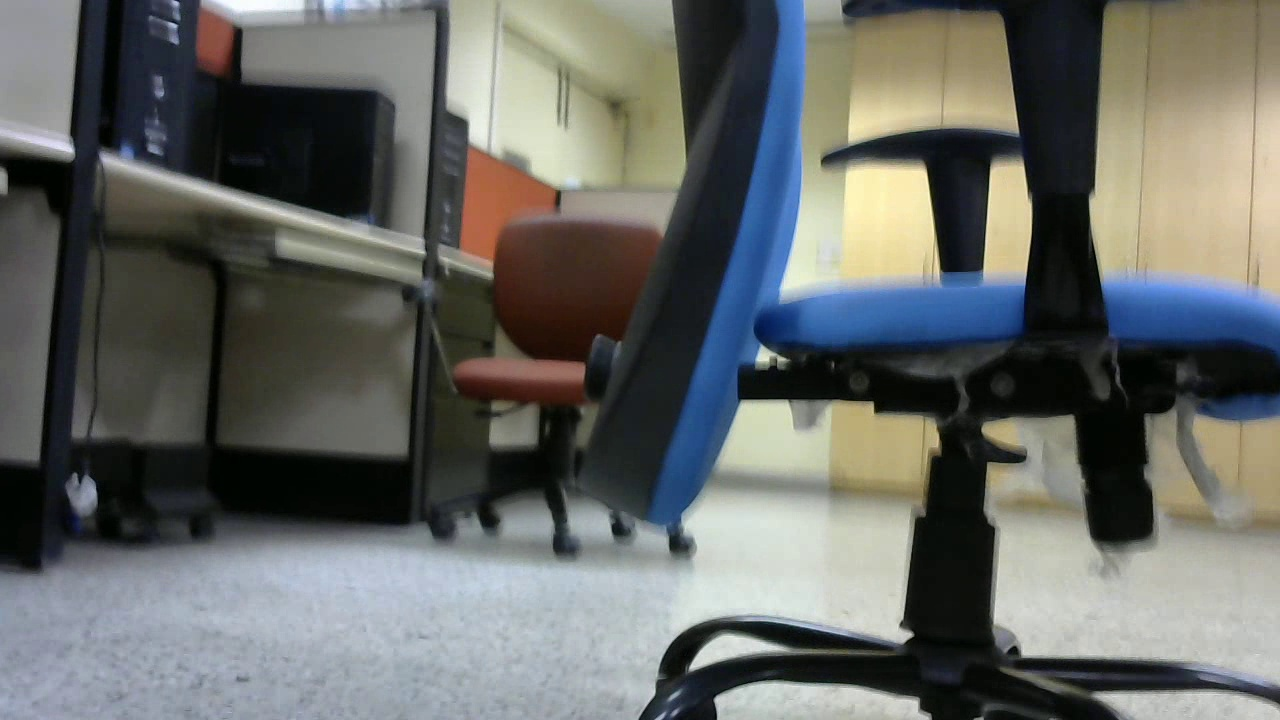chair: (592, 5, 1280, 720), (429, 213, 706, 560)
